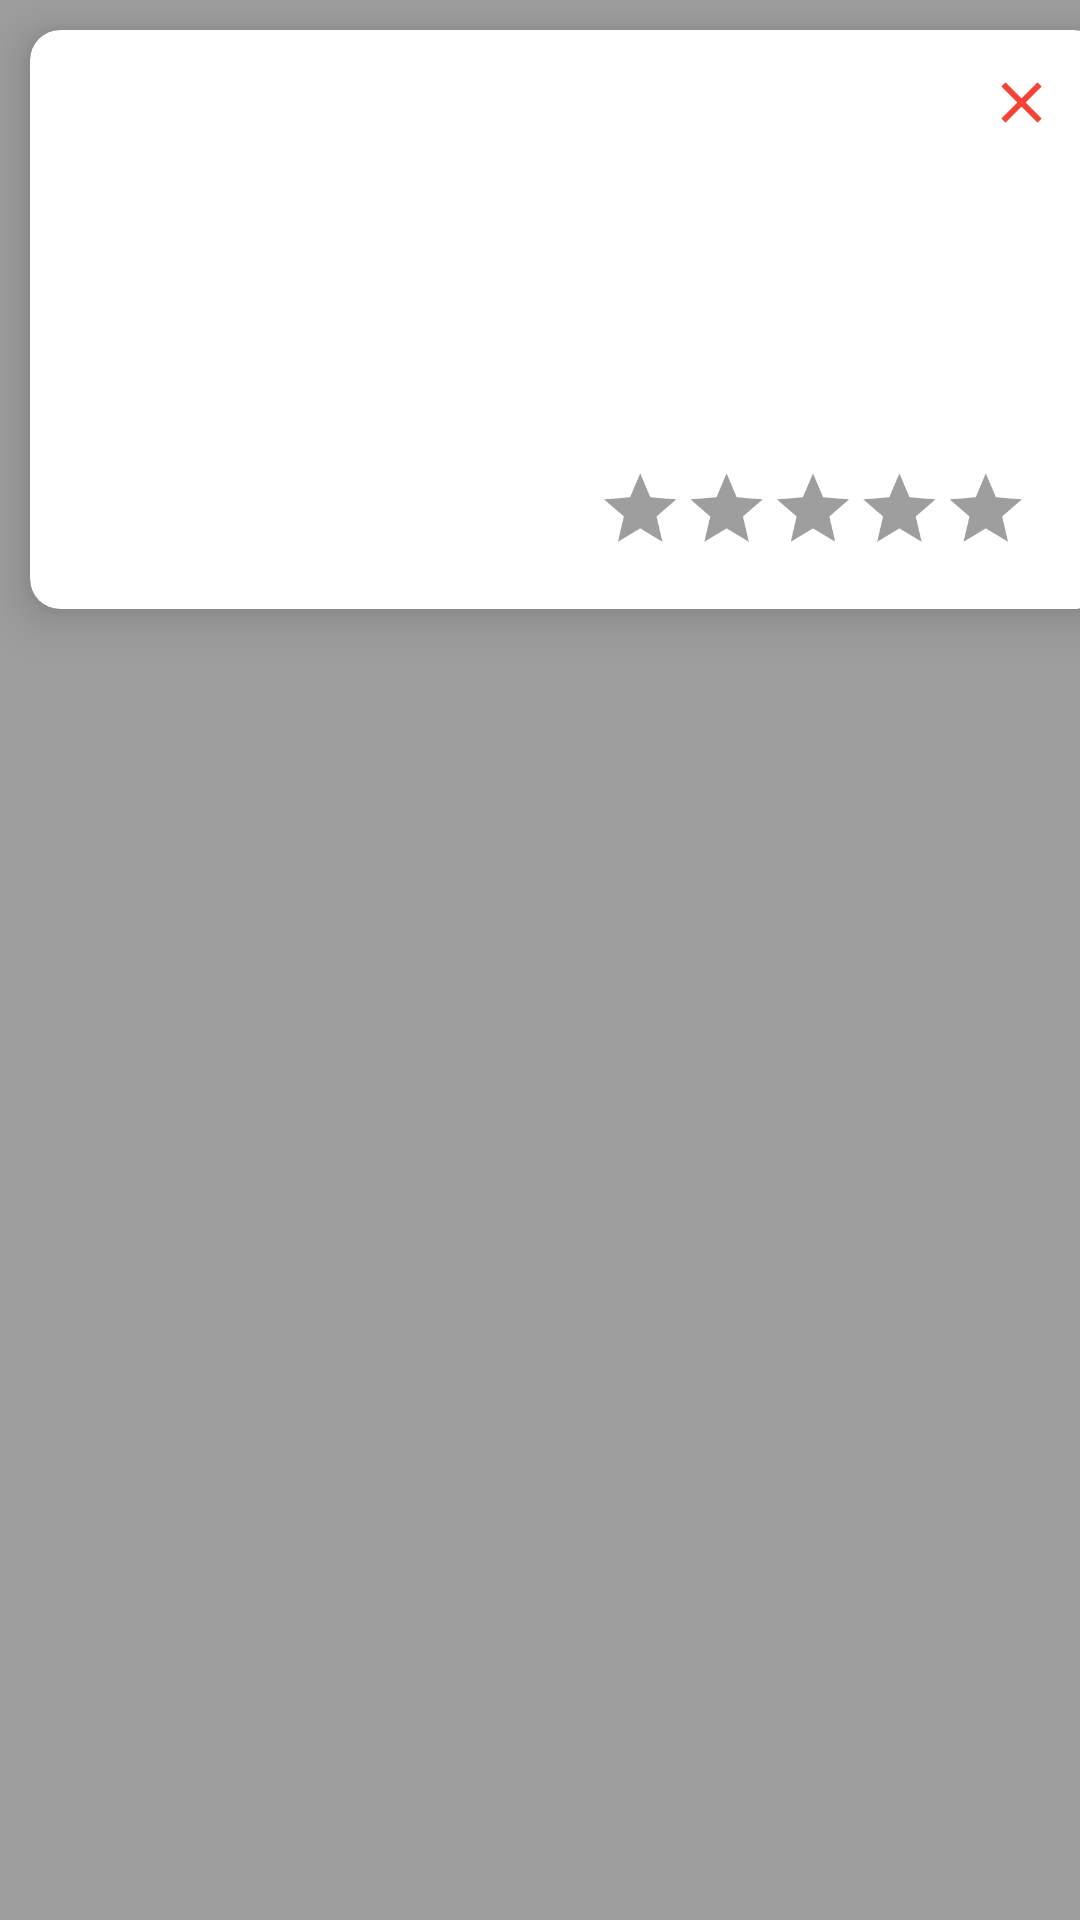

Icons on this 1080 × 1920 Android screen, each with the point to tap as (x,y):
clear: (1021,102)
